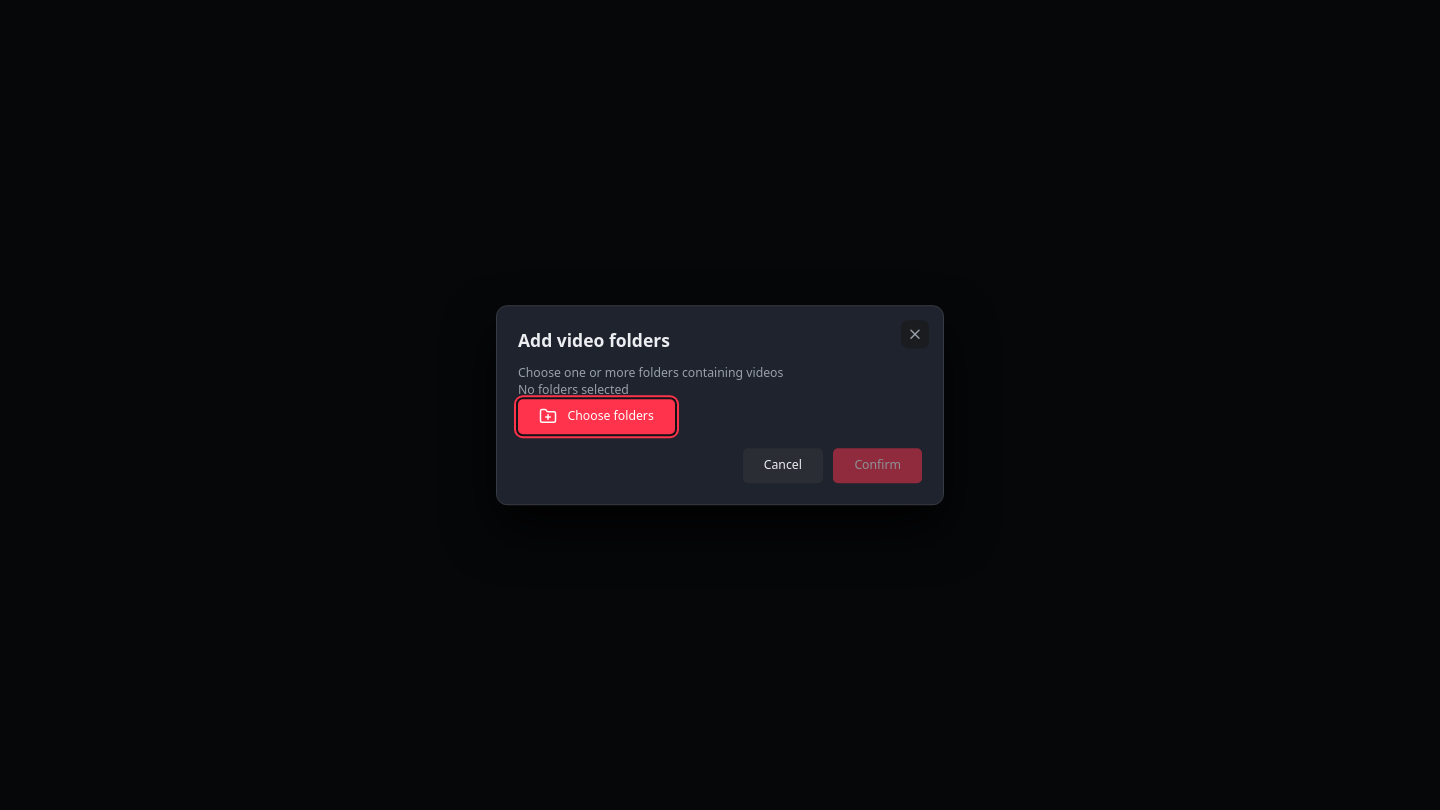
Scenario: names the remove button after its path, and its tooltip after the act
Step 1. Click the button "Choose folders" → (596, 416), box [518,399,675,434]
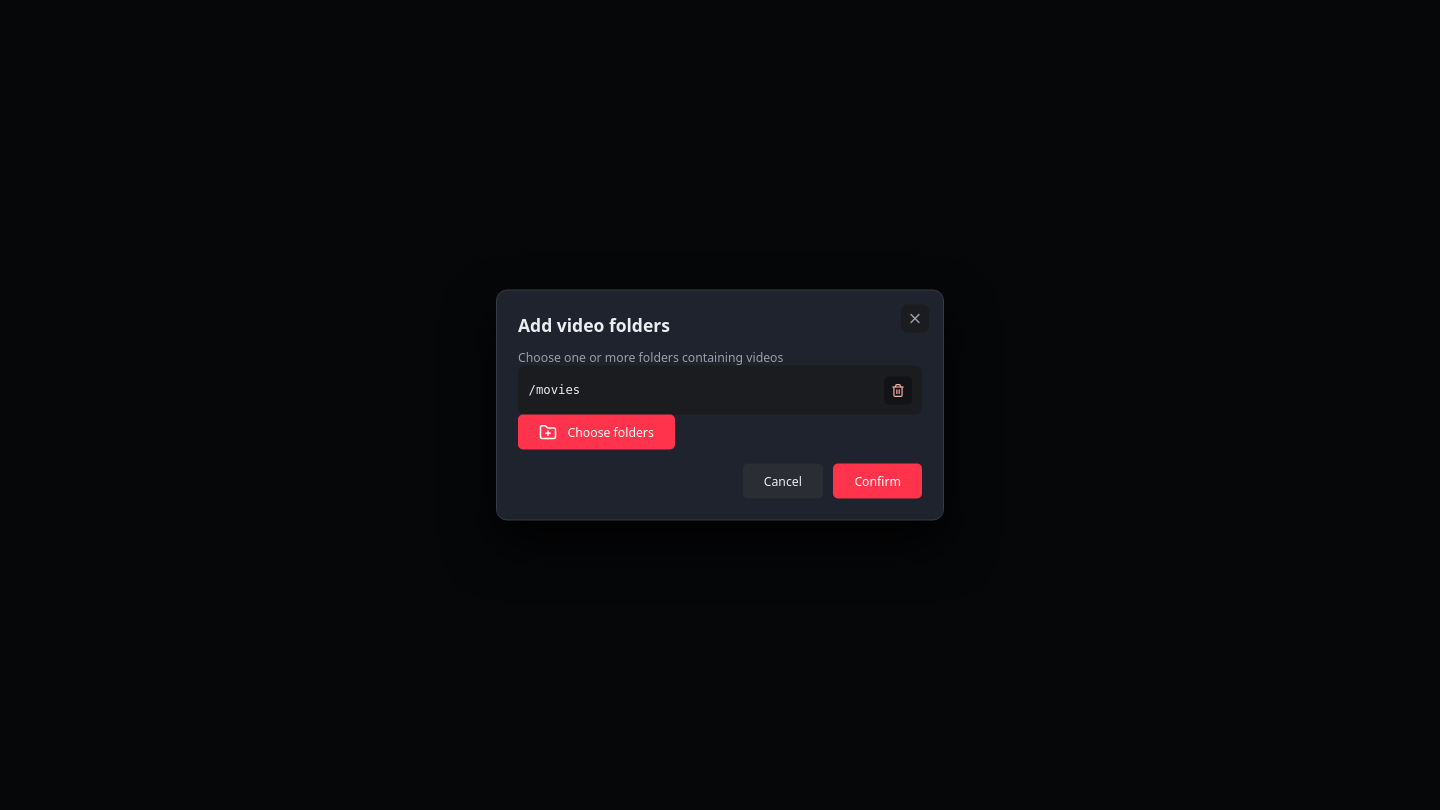
Step 2. Focus the button named "Remove &#x2F;movies" → (898, 390), box [884,376,912,404]
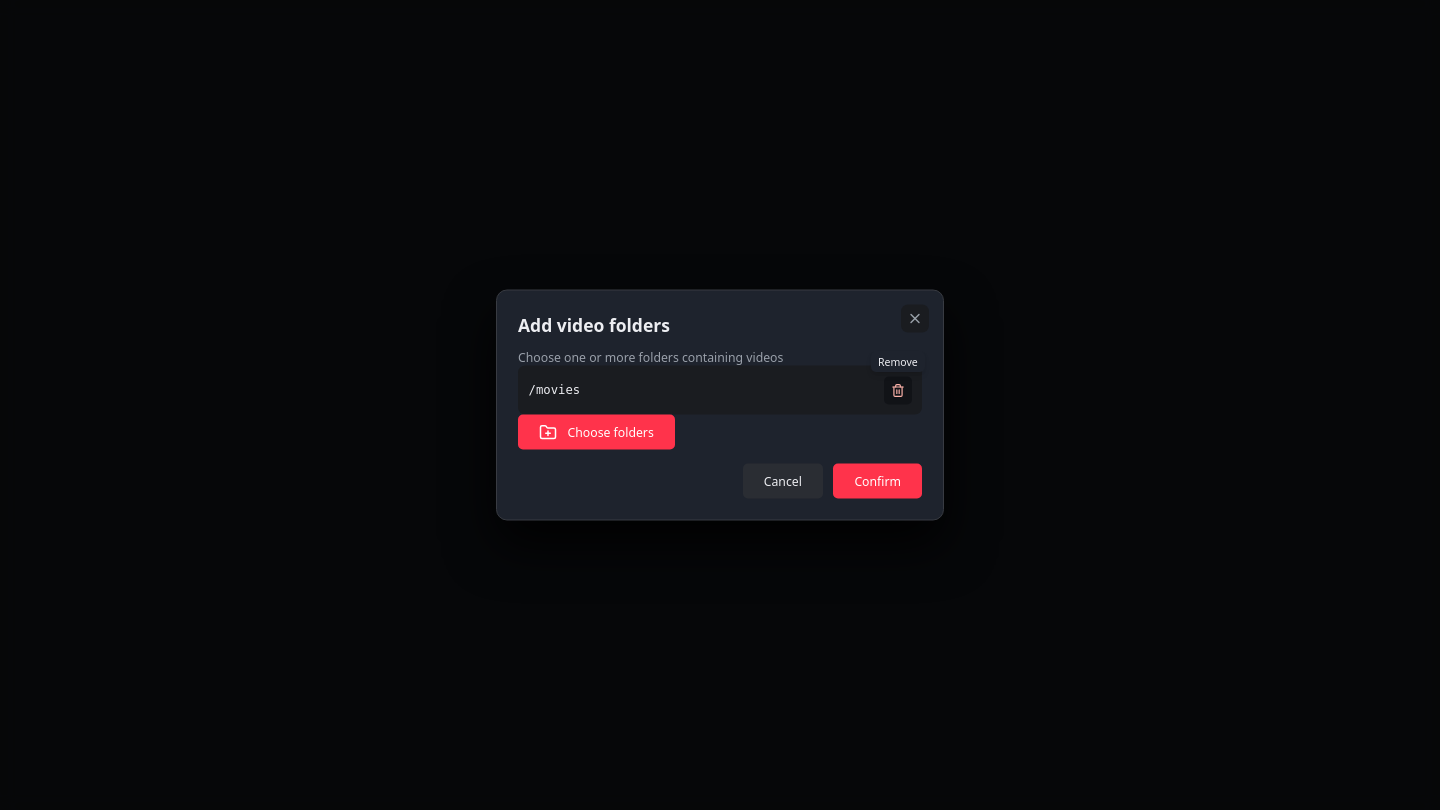
Check: the tooltip reads "Remove", box [878,354,918,368]
